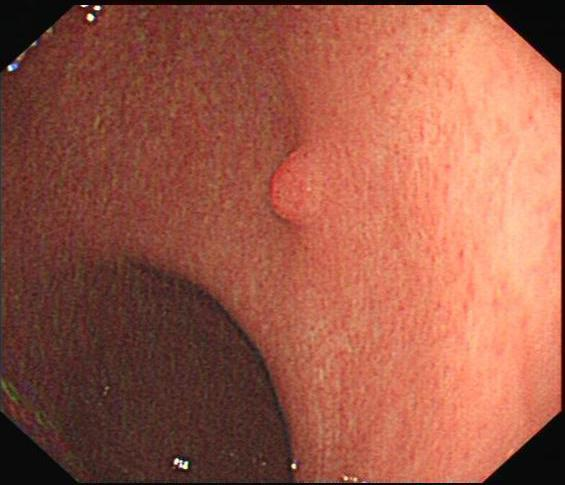Polyp: (259, 134, 336, 230)
